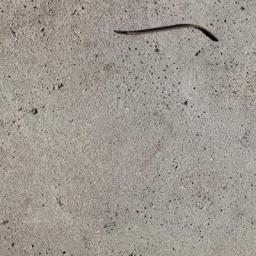FOD: (114, 19, 222, 52)
